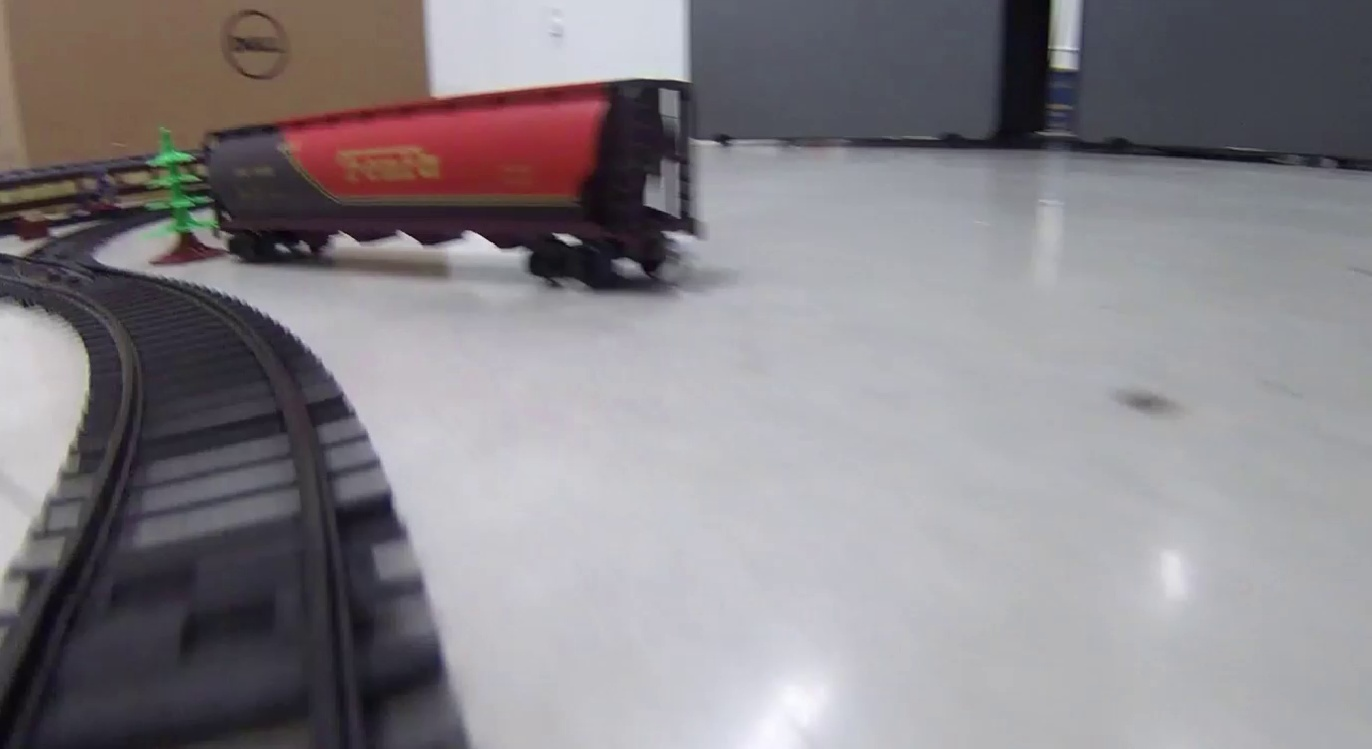tree: (144, 128, 220, 267)
